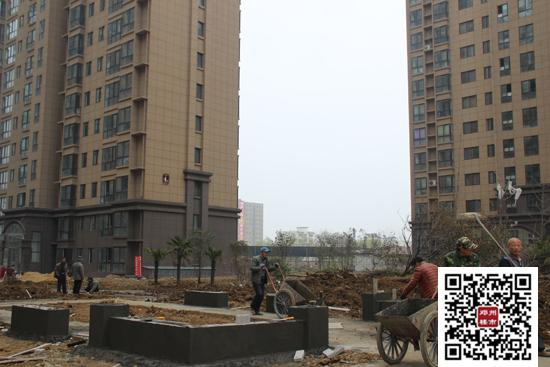helmet: (260, 248, 271, 256)
